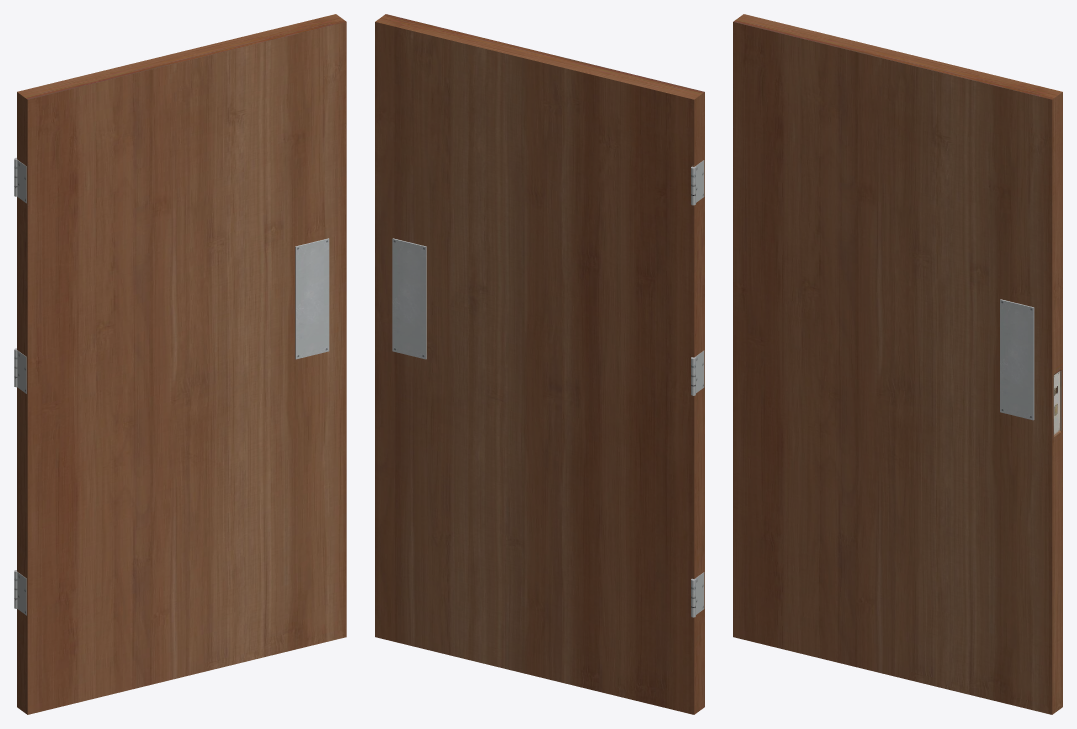
File: SM_Door_03.glb
3 renders of one model, left to right at view 1: azimuth 30°, elevation 25°; view 2: azimuth 150°, elevation 25°; view 3: azimuth 330°, elevation 25°, orthographic.
Parts seen in each view (by area): view 1: SM_Door_03; view 2: SM_Door_03; view 3: SM_Door_03.
Part boxes in pixels (bbox=[...]): SM_Door_03: bbox=[14, 14, 346, 714]; SM_Door_03: bbox=[375, 14, 704, 714]; SM_Door_03: bbox=[733, 14, 1062, 714].
Size of the model in its own units: 1.31 by 2.39 by 0.0926.
1 material, 1 textured.
